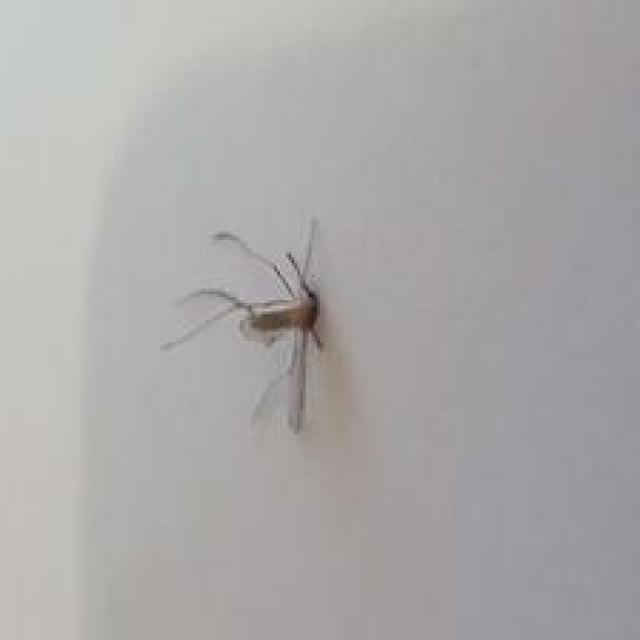Culex: (160, 215, 326, 436)
